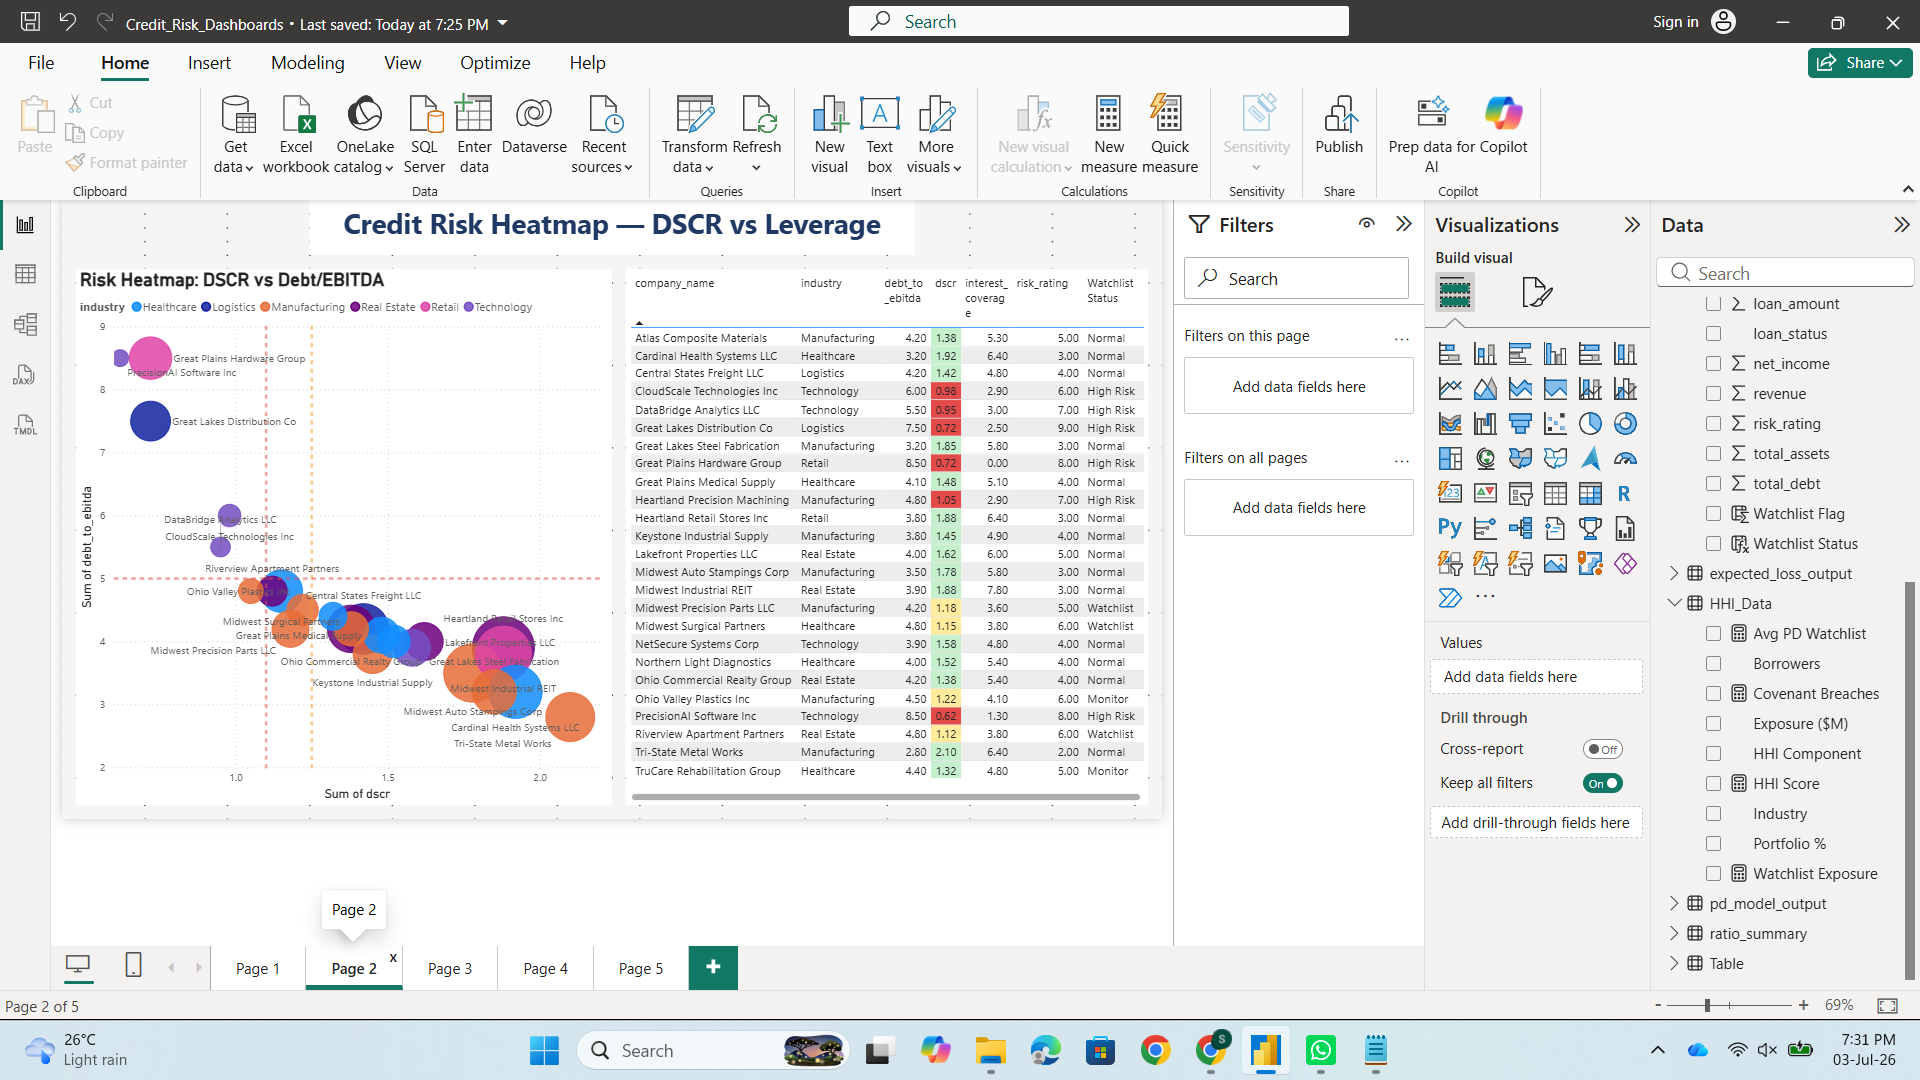

The page's visual inventory and layout, read from the dashboard file:
{"tool":"powerbi","page":{"name":"Page 2","canvas":[1280,720],"ordinal":1},"visuals":[{"type":"textbox","box":[288,0,704,64],"z":0},{"type":"scatterChart","title":"Risk Heatmap: DSCR vs Debt/EBITDA","fields":{"X":["Sum(borrowers_data.dscr)"],"Y":["Sum(borrowers_data.debt_to_ebitda)"],"Size":["Sum(borrowers_data.loan_amount)"],"Series":["borrowers_data.industry"],"Category":["borrowers_data.company_name"]},"box":[16,80,624,624],"z":1000},{"type":"tableEx","fields":{"Values":["borrowers_data.company_name","borrowers_data.industry","borrowers_data.debt_to_ebitda","borrowers_data.dscr","borrowers_data.interest_coverage","borrowers_data.risk_rating","borrowers_data.Watchlist Status"]},"box":[656,80,608,624],"z":2000}]}

Visuals, with their boxes on the page's 1280x720 design canvas (x1, y1, x2, y2). These are canvas units, not pixel positions in the 1920x1080 screenshot, which may show the page scaled, cropped or inside an application window:
textbox: [left=288, top=0, right=992, bottom=64]
"Risk Heatmap: DSCR vs Debt/EBITDA" scatterChart: [left=16, top=80, right=640, bottom=704]
tableEx - borrowers_data.company_name x borrowers_data.industry: [left=656, top=80, right=1264, bottom=704]
